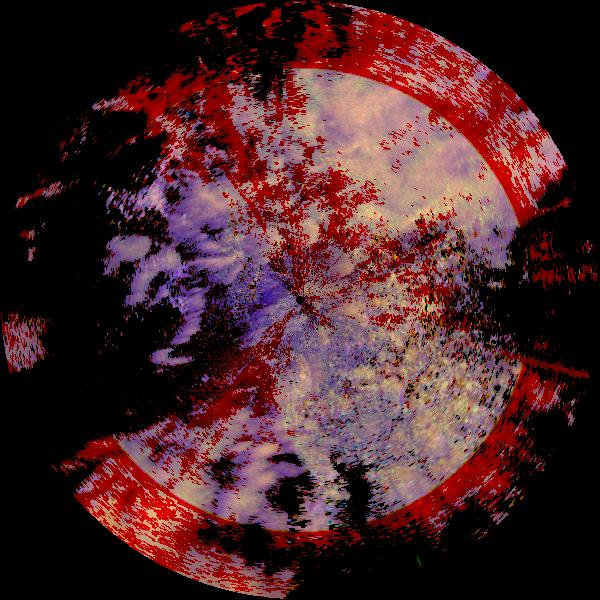roost: (331, 287, 379, 335), (279, 350, 324, 395), (311, 327, 344, 360)
